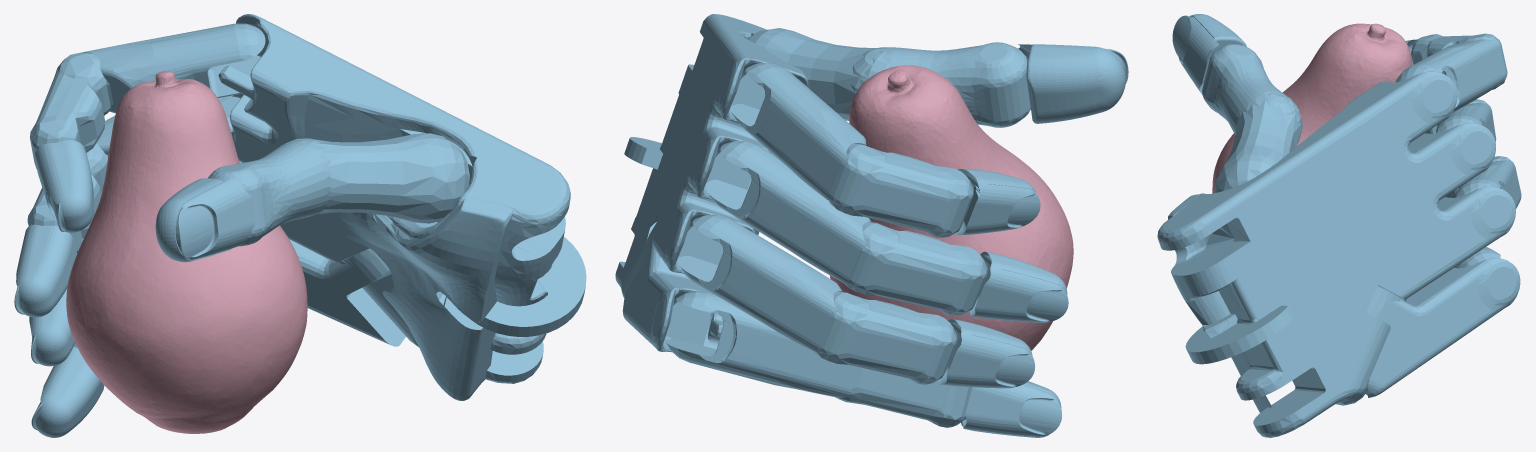
The picture shows the model from 3 angles, left to right: view 1: azimuth 30°, elevation 25°; view 2: azimuth 150°, elevation 25°; view 3: azimuth 270°, elevation 25°; orthographic projection. The views are drawn at different scales.
Parts seen in each view (by area): view 1: world; view 2: world; view 3: world.
Part boxes in pixels (x1,y1,x2,y2): world: [14, 14, 586, 437]; world: [615, 14, 1128, 437]; world: [1157, 14, 1521, 437].
Bounding box in the file's own units: 0.161 × 0.1078 × 0.1195.
